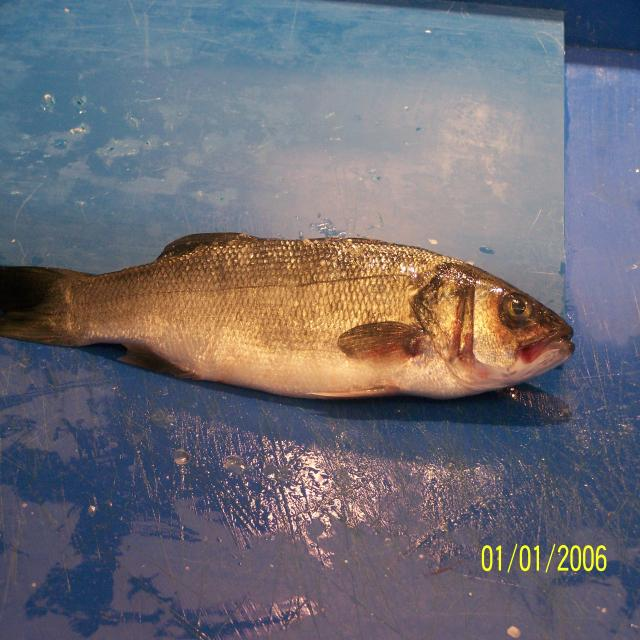Sea-Bass-levrek-: (0, 233, 575, 403)
